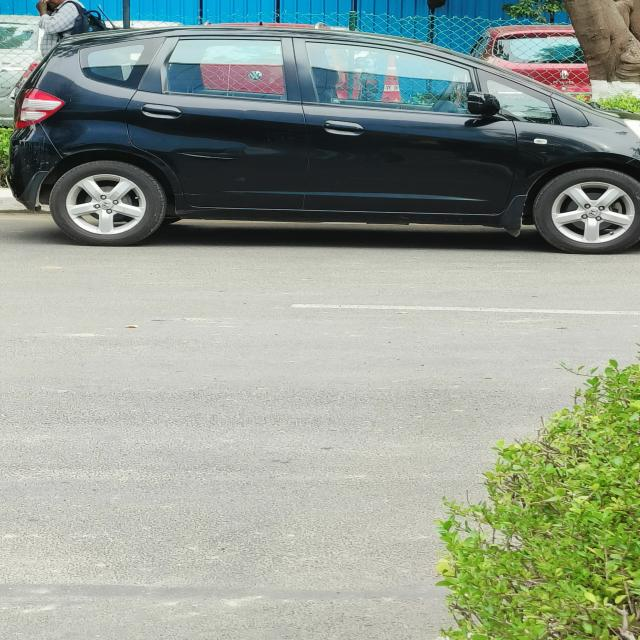scratch: (173, 192, 222, 217), (173, 150, 241, 164), (22, 157, 50, 173)
